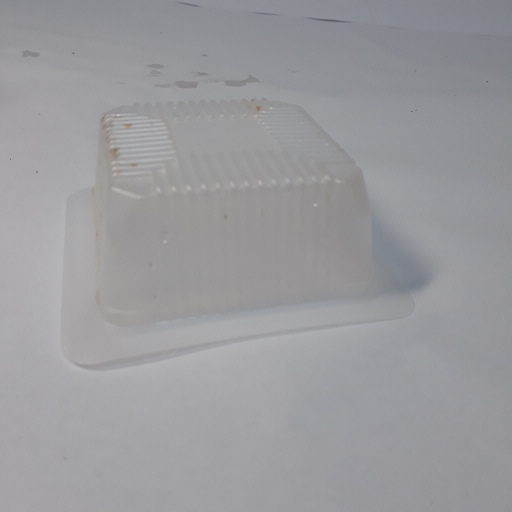Plastic_4: (59, 101, 416, 373)
